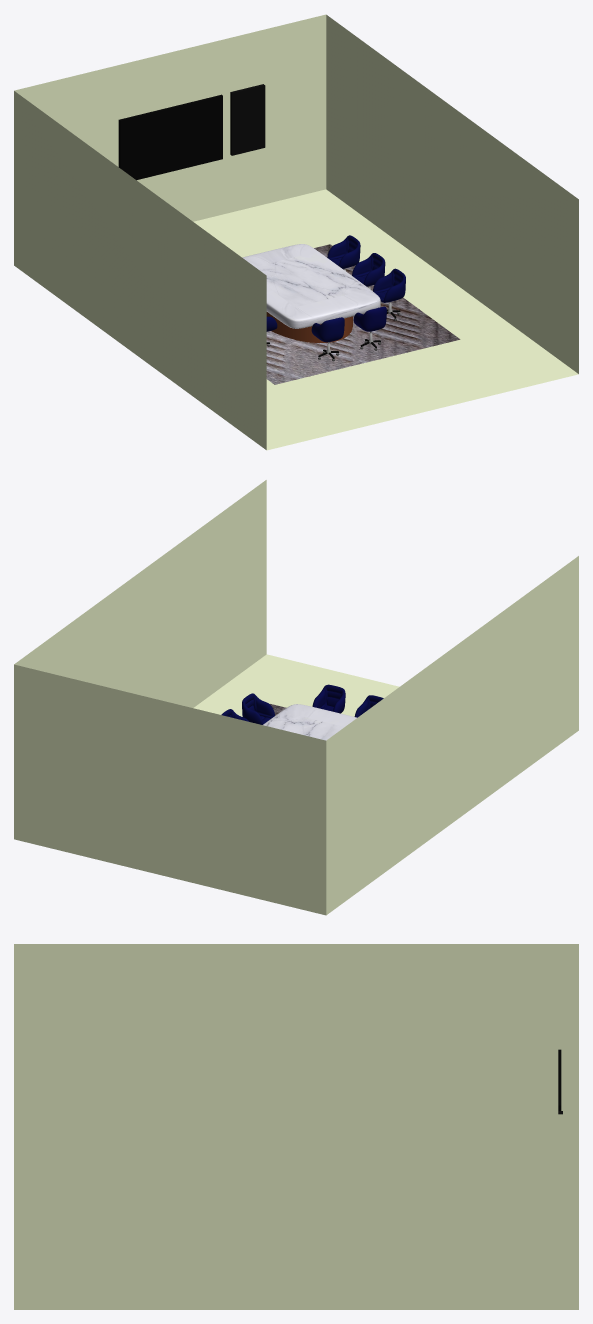
The model's file is meeting-room-fp.glb.
3 renders of one model, top to bottom at view 1: azimuth 30°, elevation 25°; view 2: azimuth 150°, elevation 25°; view 3: azimuth 270°, elevation 25°, orthographic. The views are drawn at different scales.
Visible parts, largest first — view 1: Cube, karpet, Cube.001, Cube.007, Cube.043, Cube.013, SurfCylinder, Cube.012, Cube.042, Cube.033, Cube.002; view 2: Cube, Cube.001, Cube.013, Cube.002; view 3: Cube.
Boxes of the visible parts, left/top/right/bottom form: Cube: left=14, top=14, right=578, bottom=450; karpet: left=266, top=244, right=460, bottom=384; Cube.001: left=242, top=244, right=380, bottom=328; Cube.007: left=118, top=94, right=222, bottom=180; Cube.043: left=230, top=84, right=265, bottom=155; Cube.013: left=373, top=268, right=405, bottom=302; SurfCylinder: left=266, top=312, right=352, bottom=342; Cube.012: left=327, top=235, right=360, bottom=268; Cube.042: left=352, top=253, right=385, bottom=286; Cube.033: left=311, top=317, right=344, bottom=342; Cube.002: left=353, top=306, right=386, bottom=331; Cube: left=14, top=480, right=578, bottom=915; Cube.001: left=263, top=704, right=356, bottom=740; Cube.013: left=242, top=693, right=274, bottom=724; Cube.002: left=312, top=684, right=345, bottom=713; Cube: left=14, top=944, right=578, bottom=1309.
Bounding box in the file's own units: 12.25 × 6.56 × 17.17.
86 materials, 2 textured.
